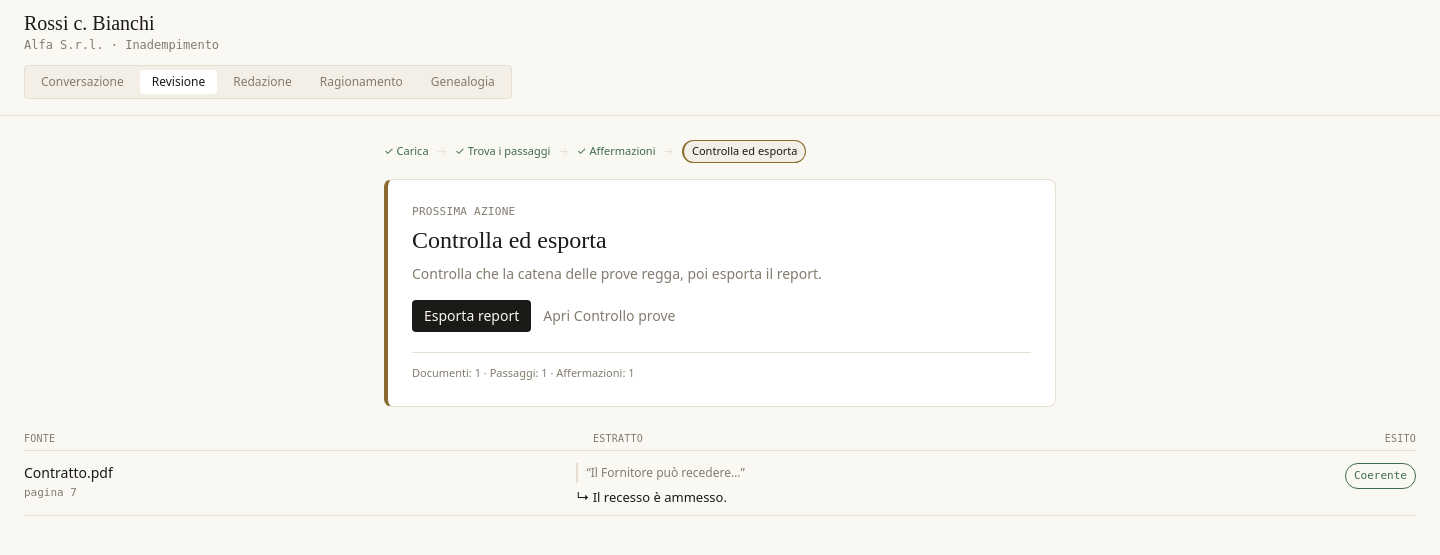
it: Conversazione mode renders the real chat surface with an honest ungrounded note
The image size is (1440, 555).
Click the button "Conversazione" at (82, 82), box [29, 70, 136, 94]
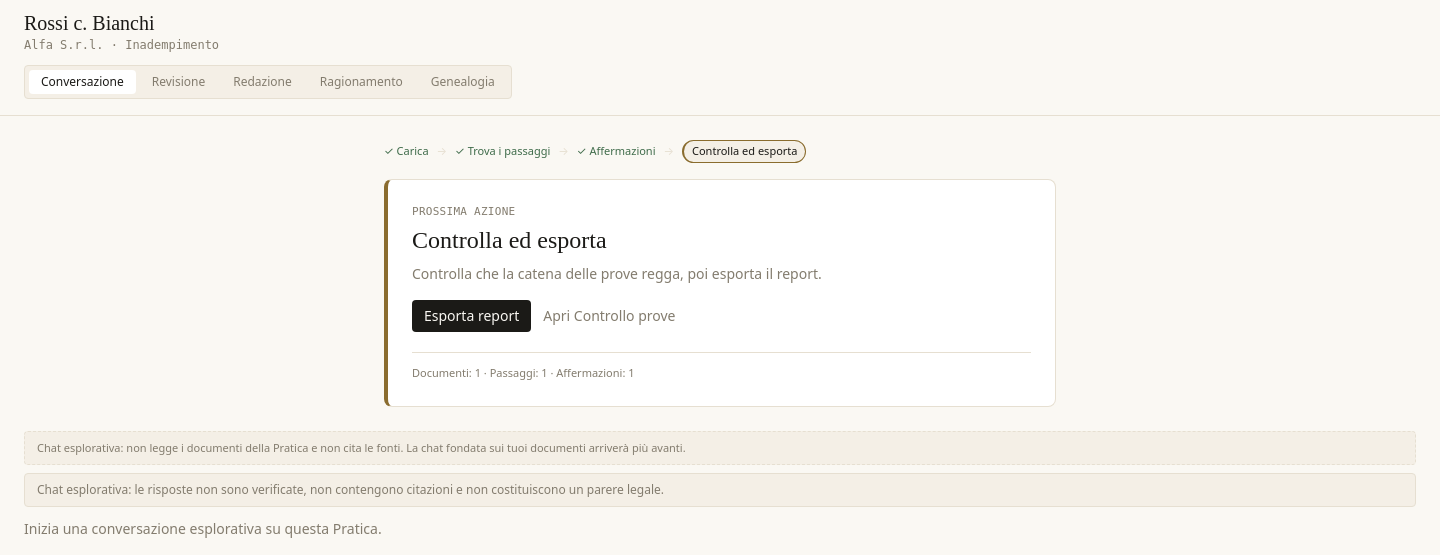
Expected: the text "non legge i documenti" is shown, [37, 440, 686, 454]
